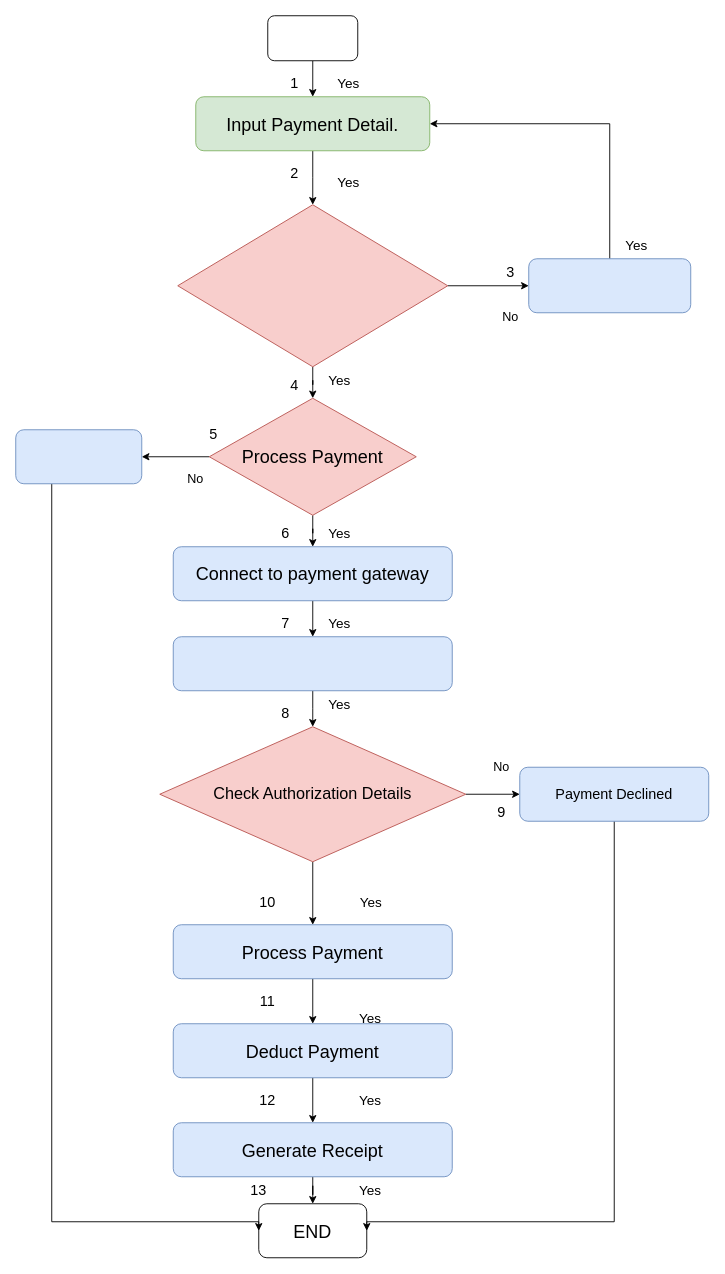
The diagram is 725 pixels wide and 1274 high, and some of its shapes have lost their labels. The centre of each missing label's shape, as x and y in pixels:
"Authorize Payment" goes at point 312,663.
"Insufficient Balance" goes at point 78,456.
"Re-Enter the card details" goes at point 609,285.
"Start" goes at point 312,38.
"Validate Payment details" goes at point 312,285.
